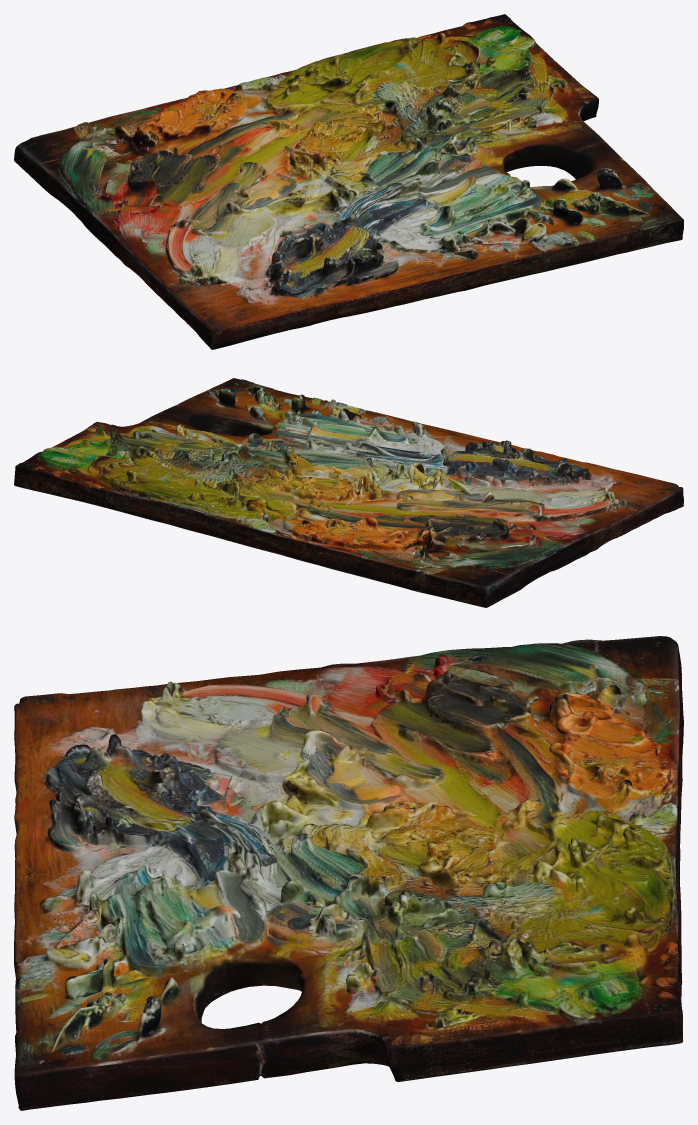
File: palette.fbx
3 views of the same model, one above another, from view 1: azimuth 30°, elevation 25°; view 2: azimuth 150°, elevation 25°; view 3: azimuth 270°, elevation 25° (orthographic). The views are drawn at different scales.
Parts seen in each view (by area): view 1: tripo_node_17a593ed; view 2: tripo_node_17a593ed; view 3: tripo_node_17a593ed.
Boxes of the visible parts, <box> form: tripo_node_17a593ed: <box>14,14,683,349</box>; tripo_node_17a593ed: <box>14,378,683,607</box>; tripo_node_17a593ed: <box>14,636,683,1110</box>.
Bounding box in the file's own units: 98.12 × 69.67 × 16.32.
1 material, 1 textured.
